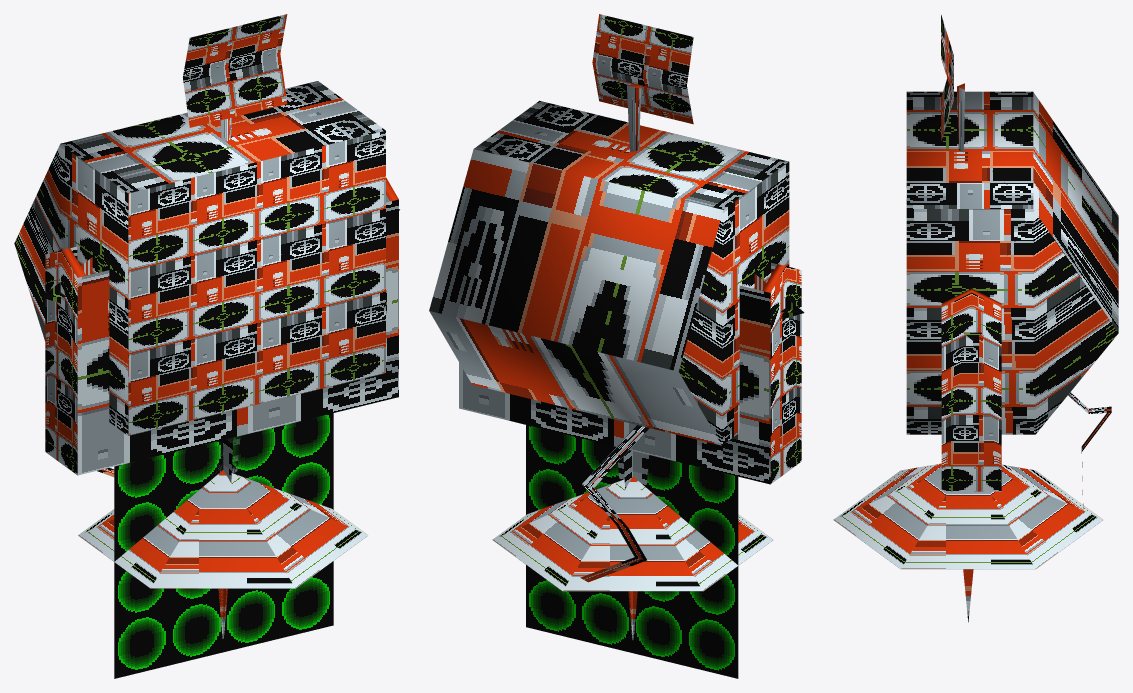
3 renders of one model, left to right at view 1: azimuth 30°, elevation 25°; view 2: azimuth 150°, elevation 25°; view 3: azimuth 270°, elevation 25°, orthographic. The views are drawn at different scales.
Parts seen in each view (by area): view 1: 3435kg_sh2_17; view 2: 3435kg_sh2_17; view 3: 3435kg_sh2_17.
Boxes of the visible parts, x1=… form: 3435kg_sh2_17: x1=14, y1=14, x2=400, y2=678; 3435kg_sh2_17: x1=429, y1=14, x2=804, y2=678; 3435kg_sh2_17: x1=833, y1=14, x2=1118, y2=622.
Bounding box in the file's own units: 0.7754 × 1.31 × 0.5725.
3 materials, 3 textured.
